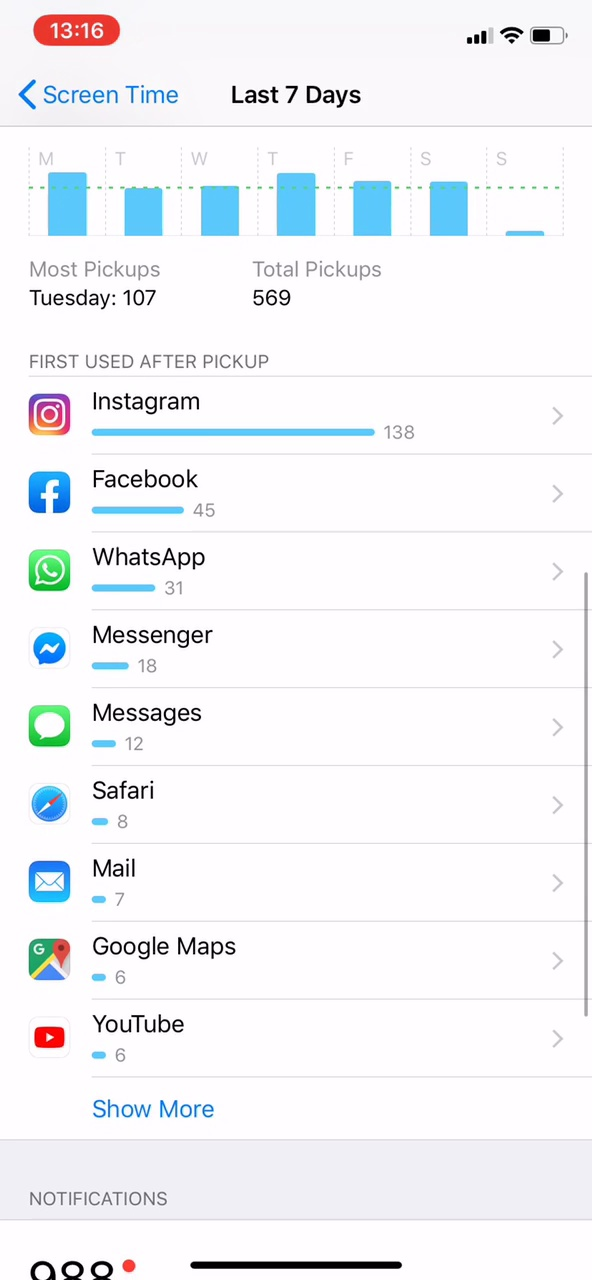pick_app: (22, 388, 429, 444), (20, 458, 248, 530), (15, 935, 270, 996), (23, 541, 253, 608), (22, 699, 247, 764), (23, 621, 247, 682), (15, 853, 222, 919), (15, 1010, 236, 1069), (20, 777, 223, 835)
pick_over: (20, 249, 439, 324)
week: (215, 75, 376, 111)
